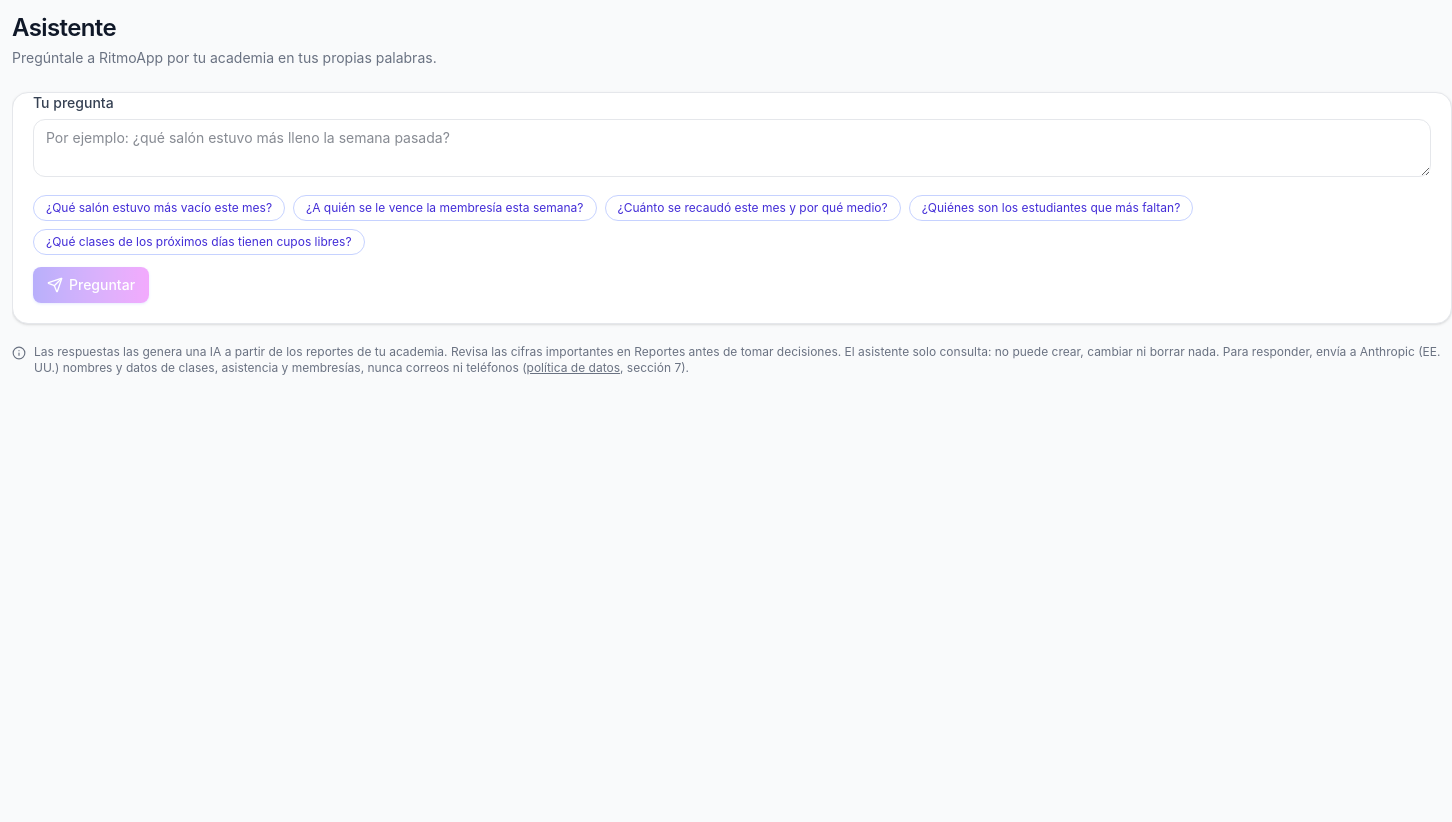
Test: RF-23 · HU-24: asistente de IA (pantalla) › CP-195 · si la API rechaza la pregunta, se ve el mensaje y no una respuesta
Click the button "¿A quién se le vence la membresía esta semana?" at x=445, y=208, box x1=293 y1=195 x2=596 y2=221
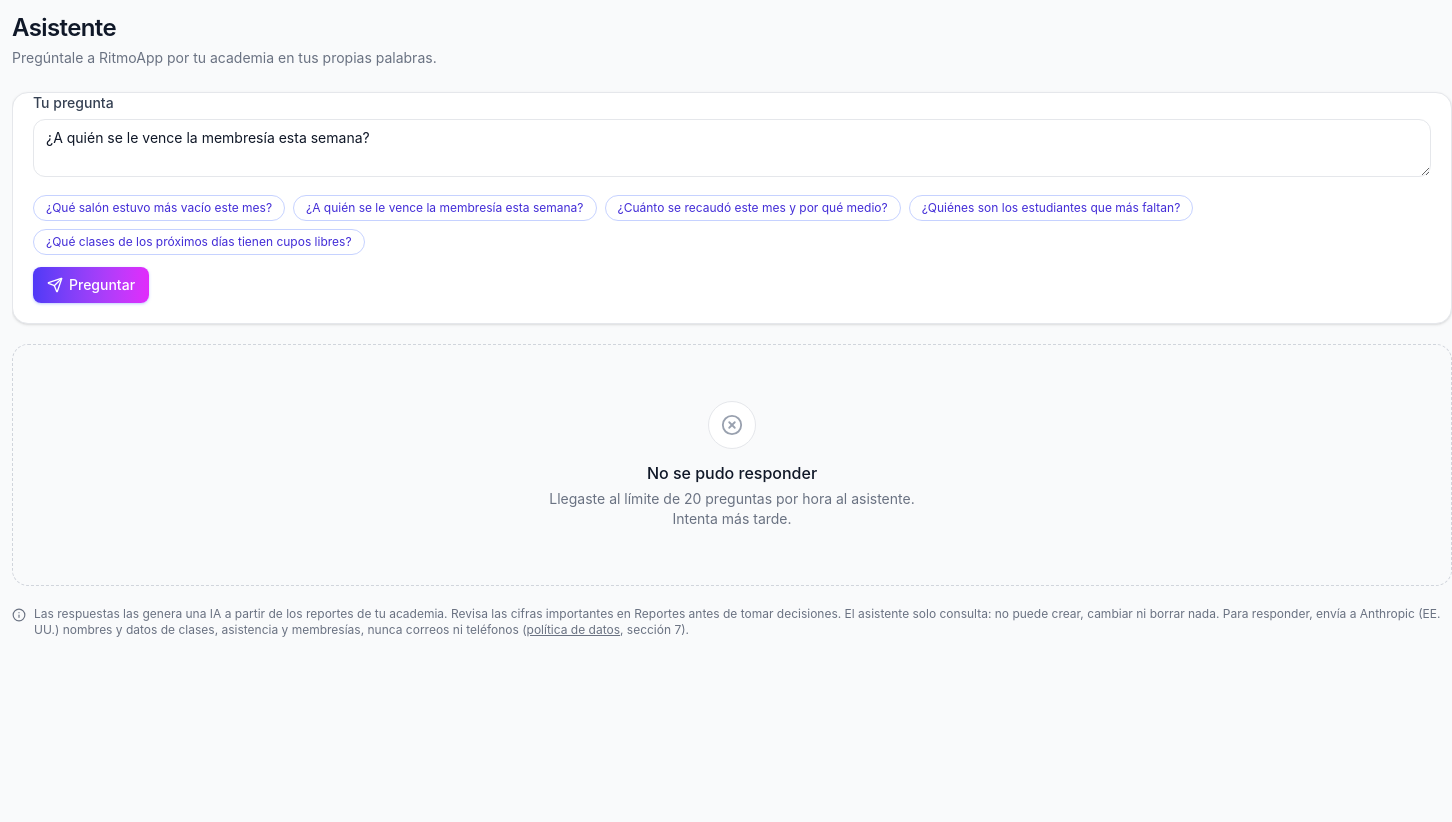
Check: the text "límite de 20 preguntas" is shown, box x1=549 y1=490 x2=915 y2=527
Check: the text "No se pudo responder" is shown, box x1=647 y1=461 x2=817 y2=485
